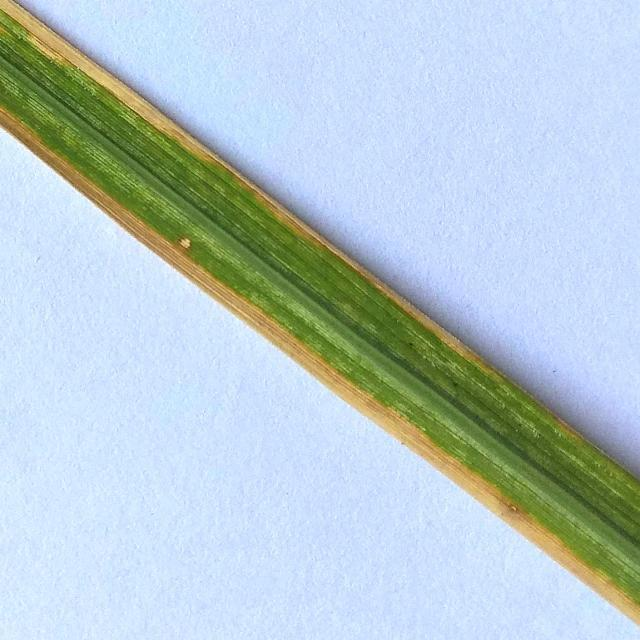Blast: (179, 232, 193, 256)
